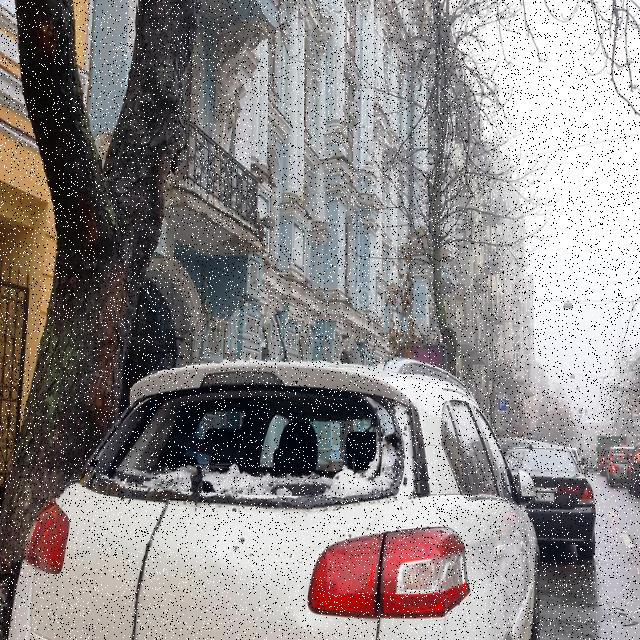Rear-windscreen-Damage: (76, 391, 434, 544)
